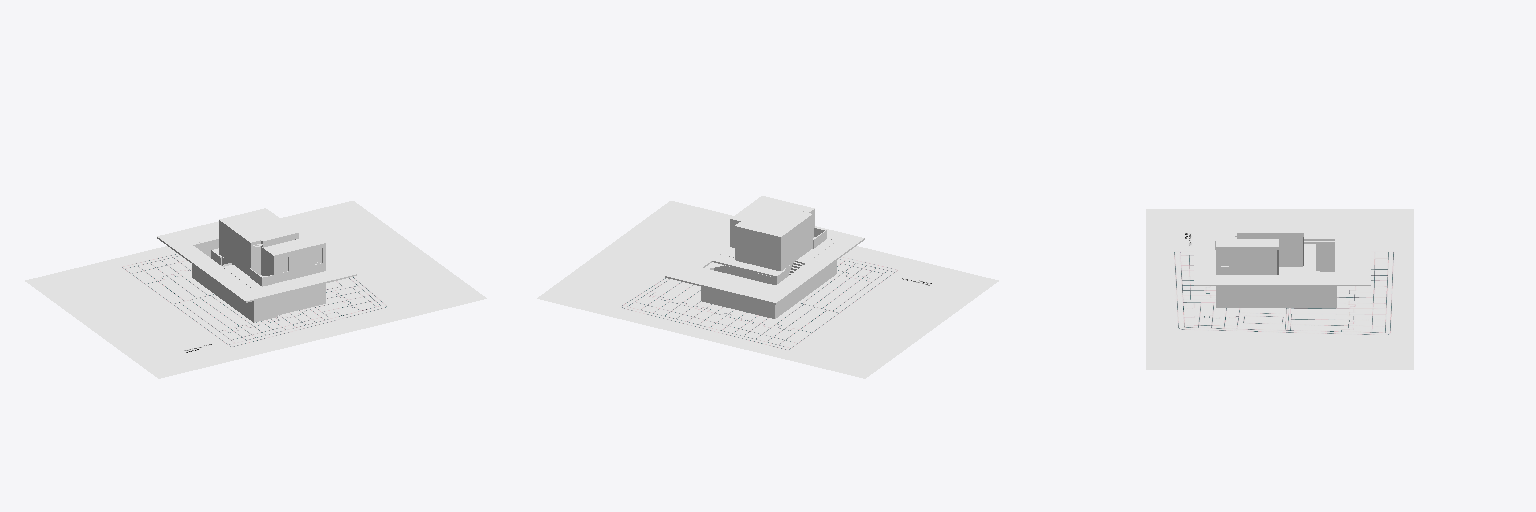
3 views of the same model, side by side, from view 1: azimuth 30°, elevation 25°; view 2: azimuth 150°, elevation 25°; view 3: azimuth 270°, elevation 25° (orthographic).
Size of the model in its own units: 587 by 115 by 415.
Materials: 2 (1 with a texture image).